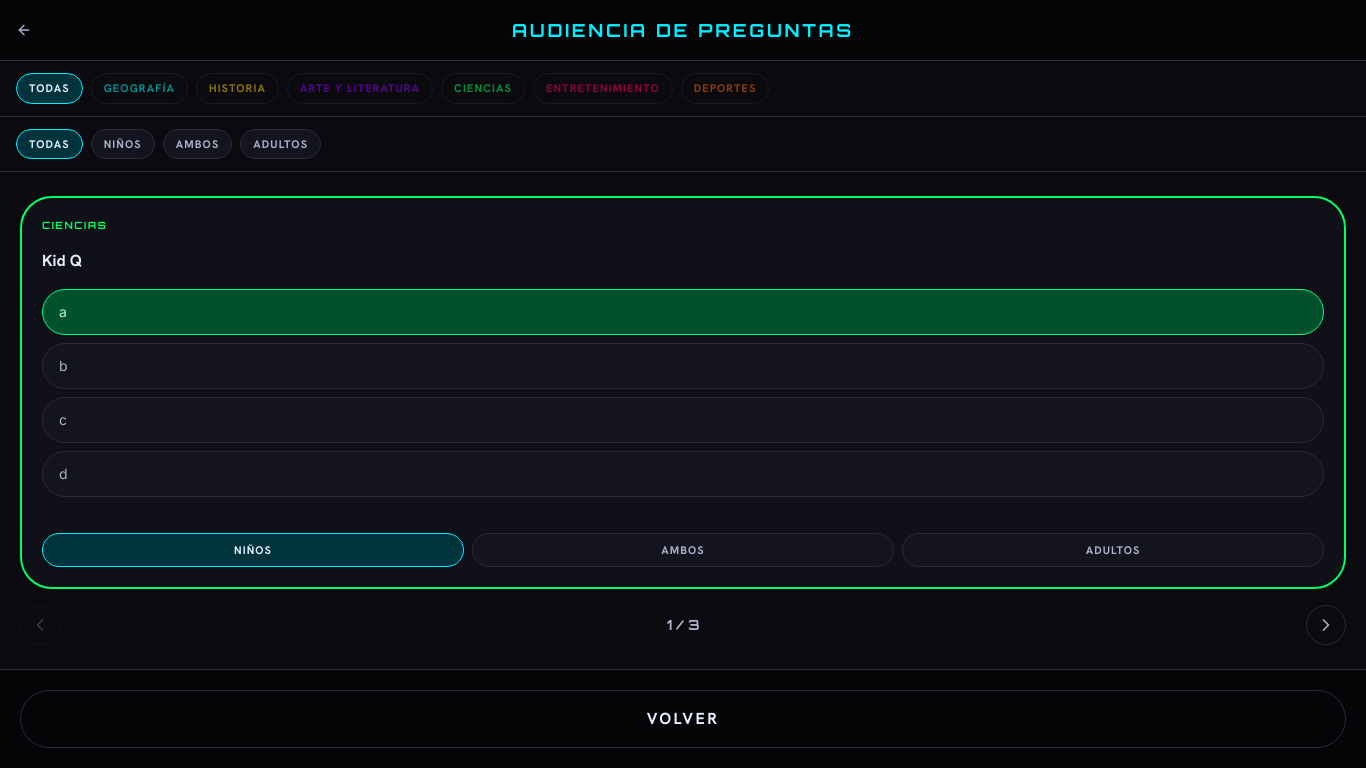
Test case: QuestionAudienceManagerScreen › filters the appeared questions by exact audience (kid / both / adult)
This screenshot has width=1366, height=768.
Expected: the text with test id "card-counter" reads "1 / 3", left=666, top=615, right=699, bottom=635
Step 1. Click the button with test id "afilter-ADULT" → (281, 144), box left=240, top=128, right=321, bottom=159
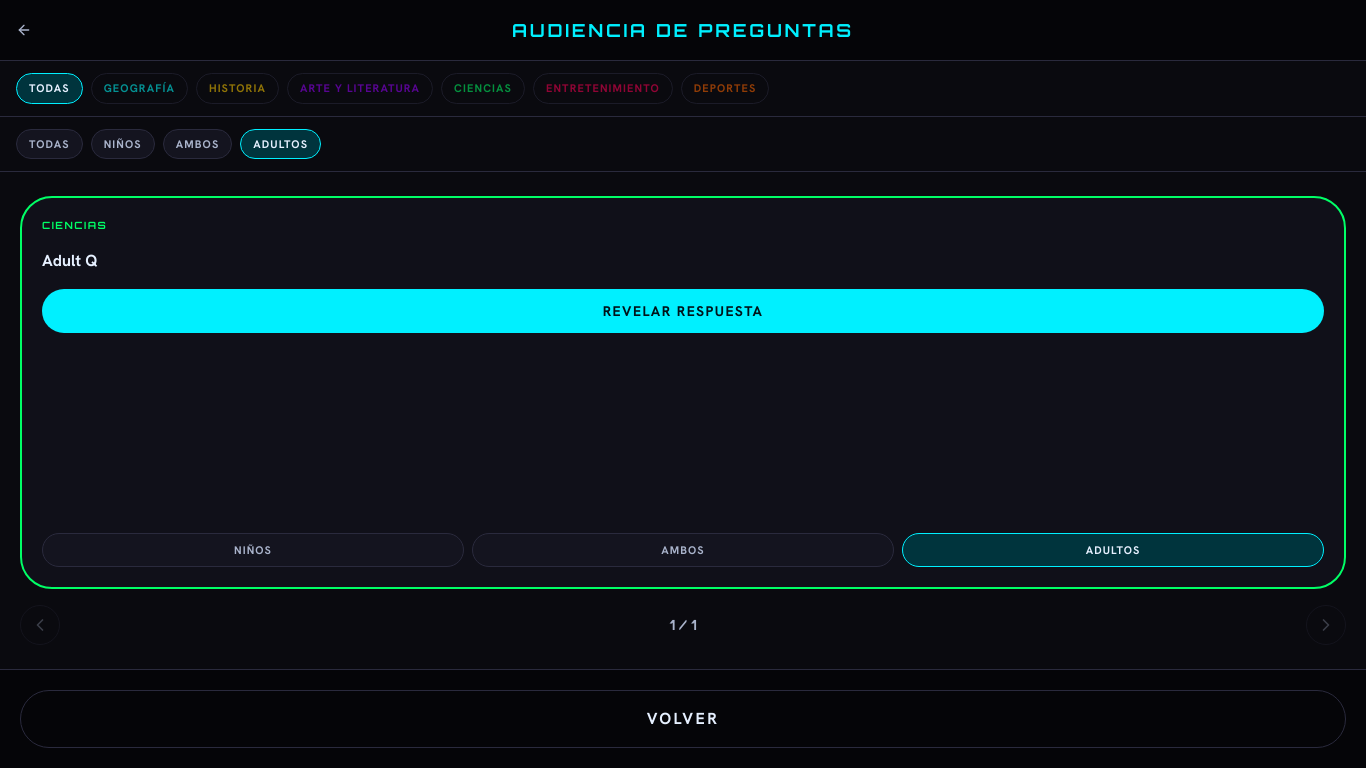
Expected: the text with test id "card-counter" reads "1 / 1", left=670, top=615, right=696, bottom=635
Step 2. Click the button with test id "afilter-BOTH" → (198, 144), box left=163, top=128, right=232, bottom=159
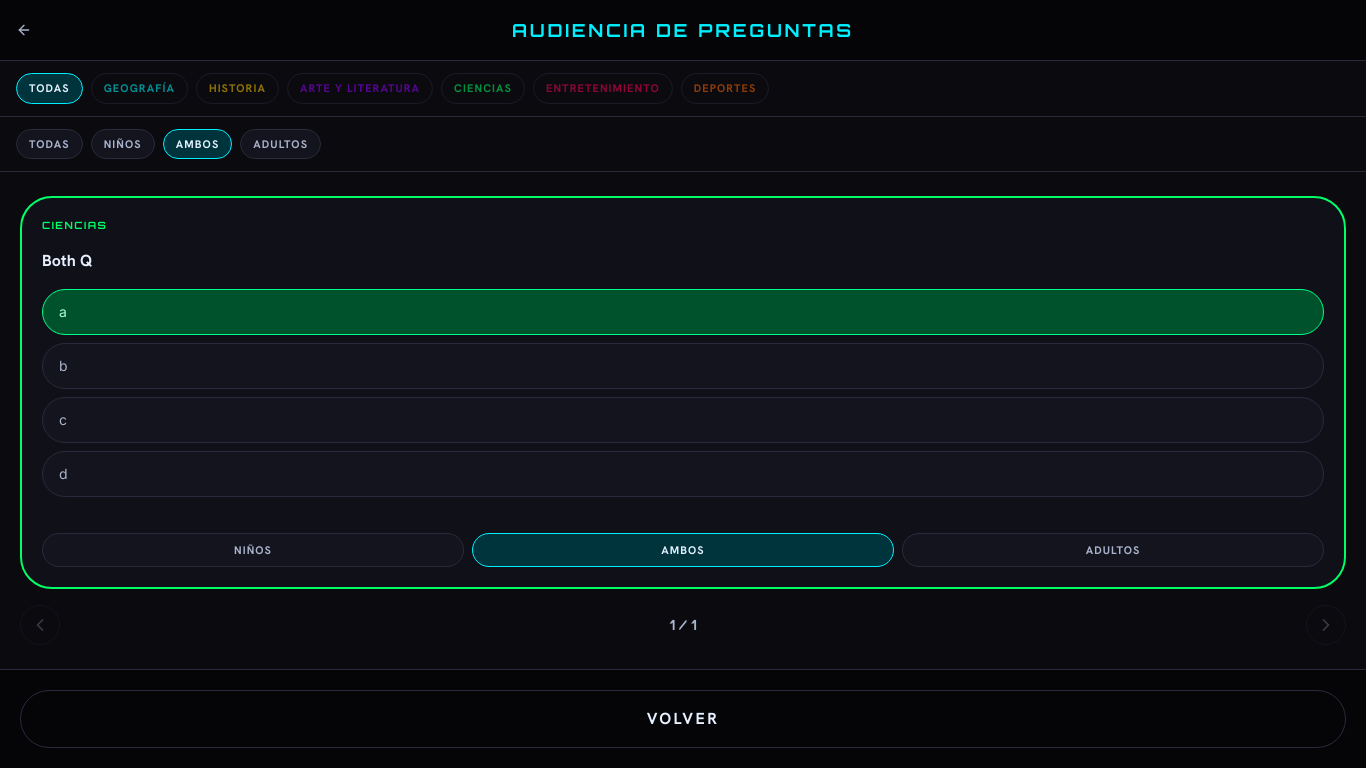
Expected: the text with test id "card-counter" reads "1 / 1", left=670, top=615, right=696, bottom=635
Step 3. Click the button with test id "afilter-ALL" → (49, 144), box left=16, top=128, right=83, bottom=159
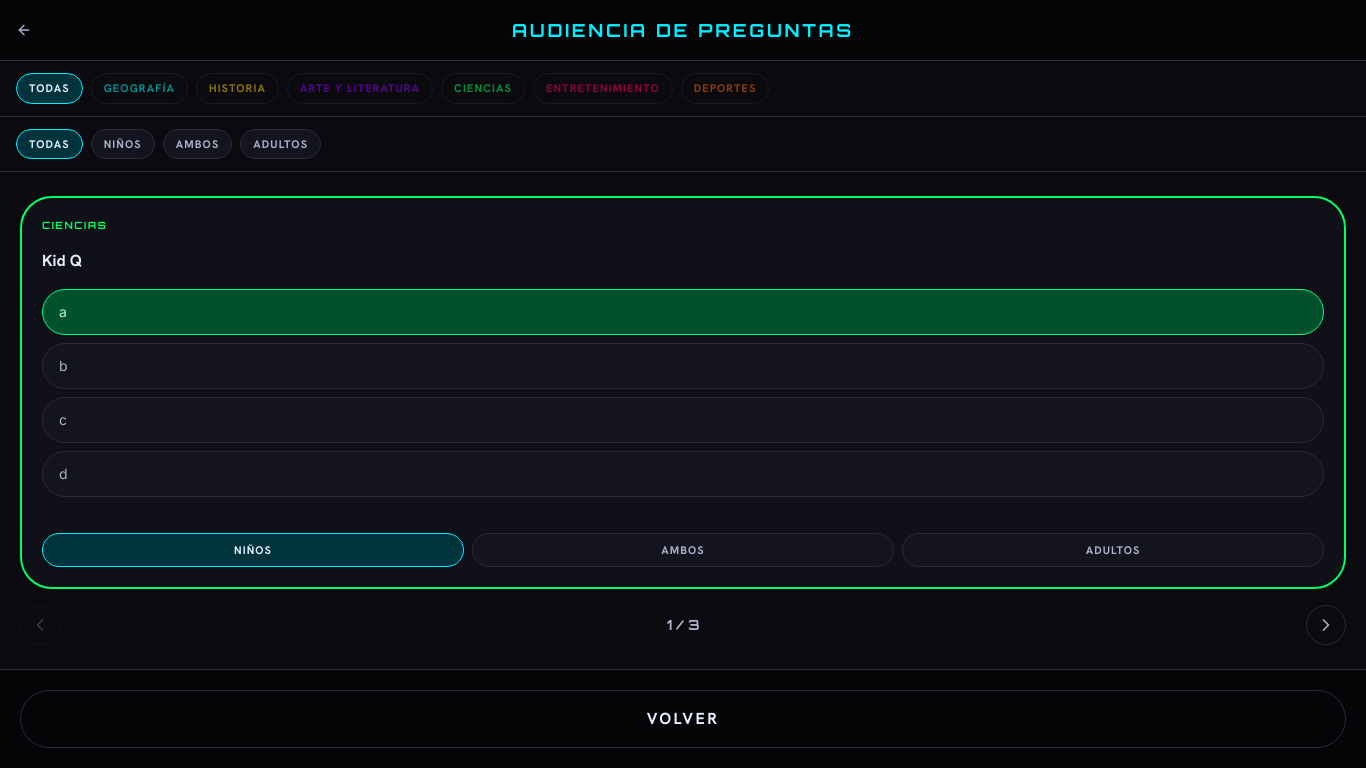
Expected: the text with test id "card-counter" reads "1 / 3", left=666, top=615, right=699, bottom=635
